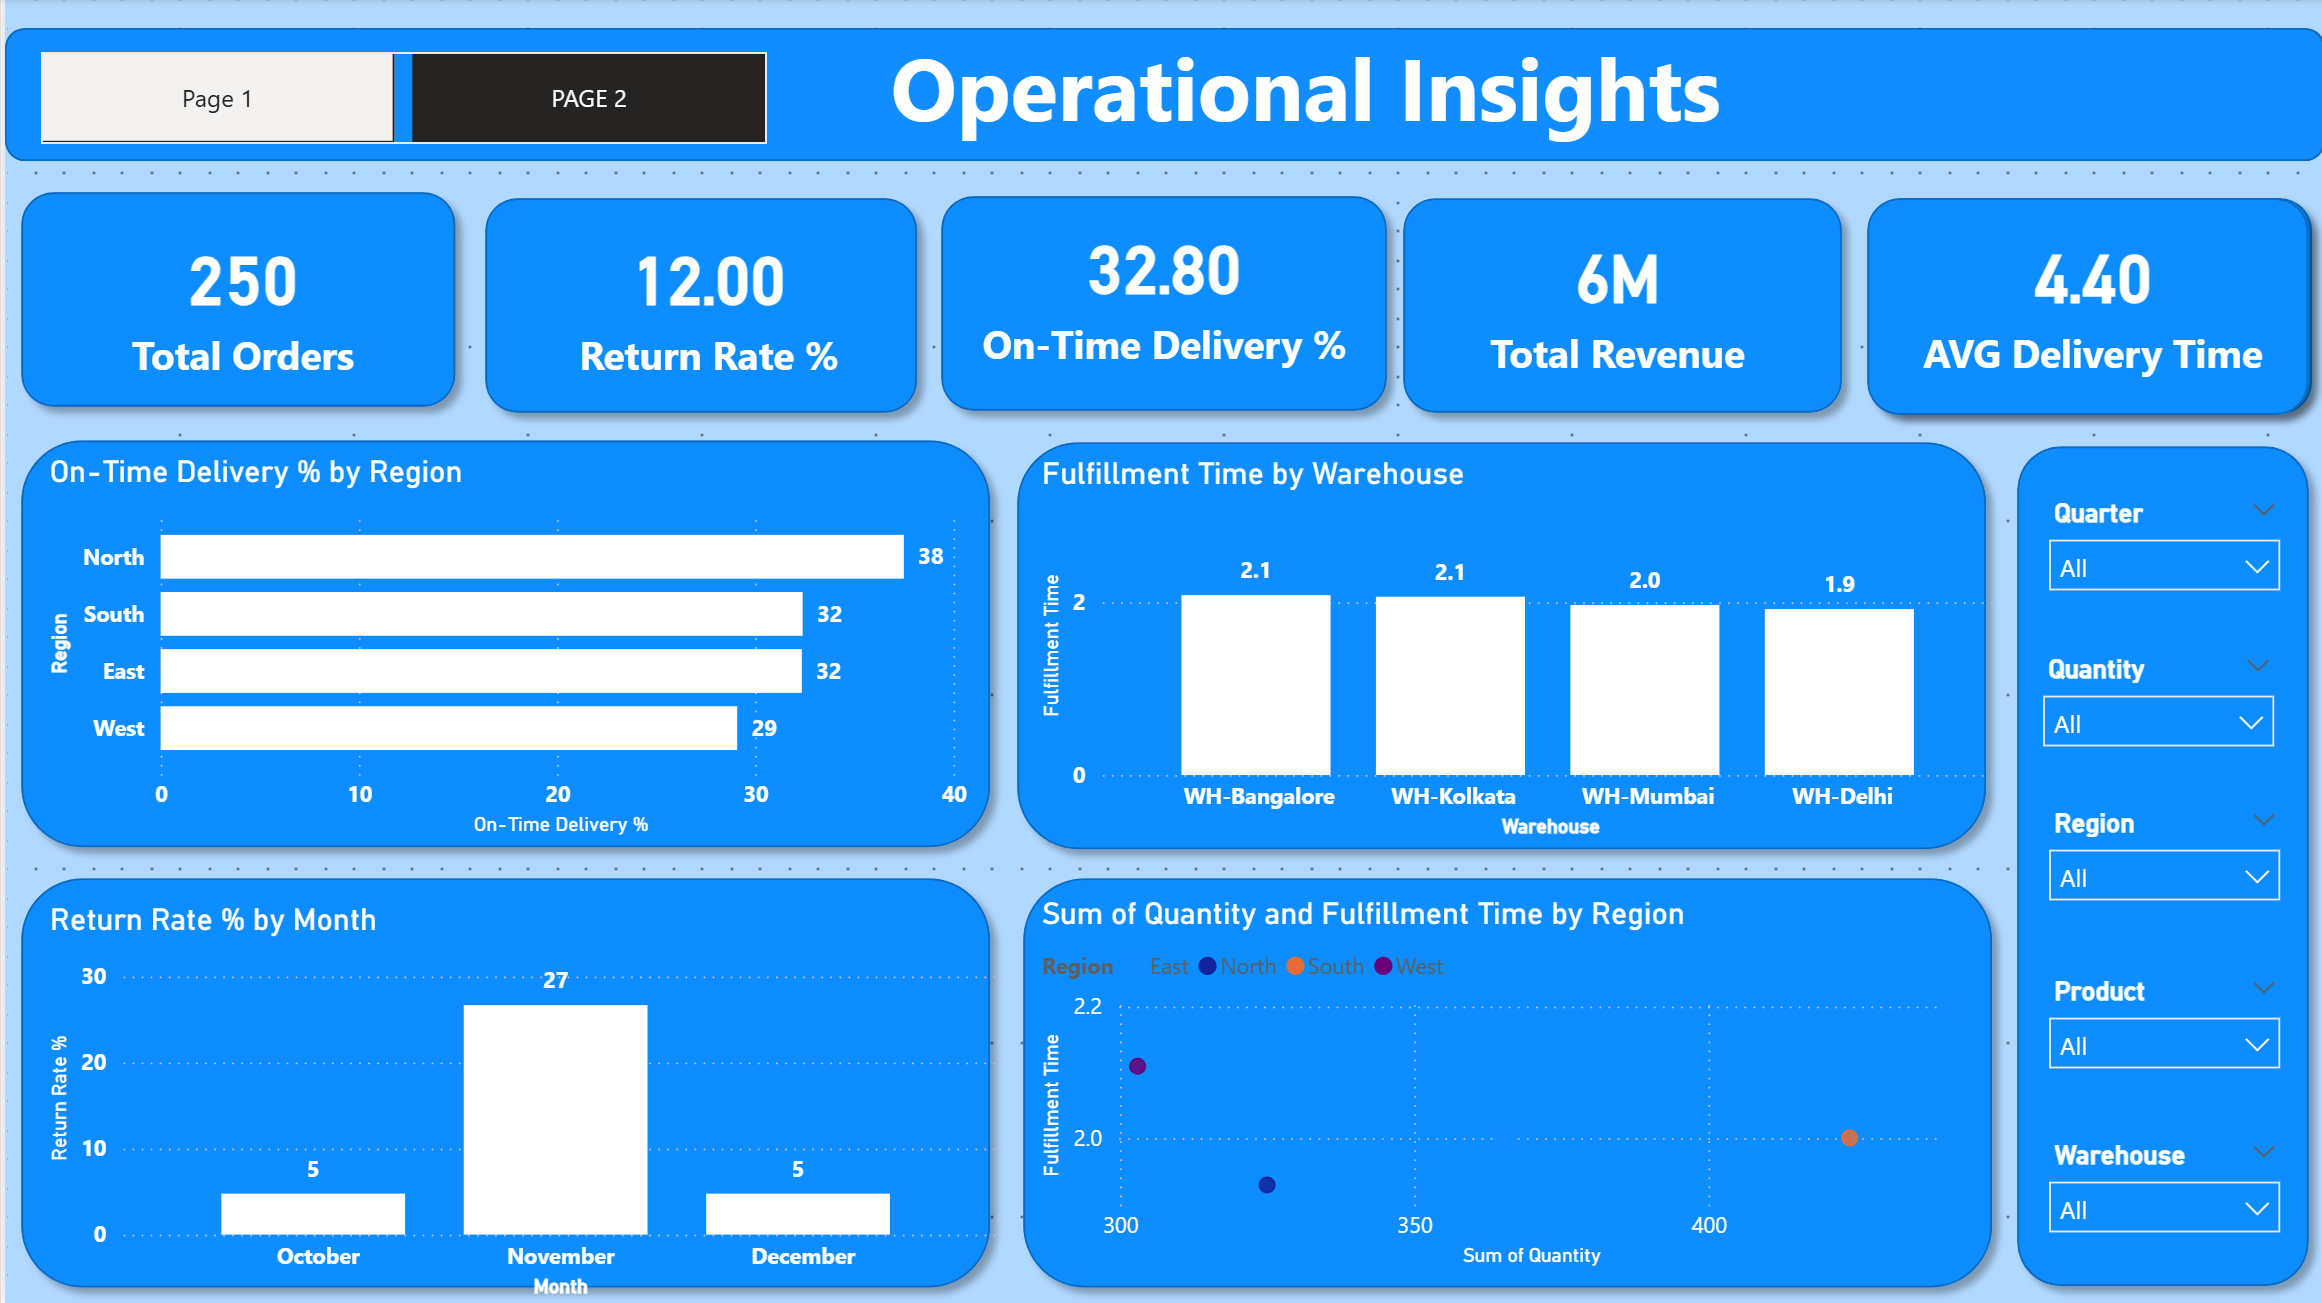

Layout of this report page (visuals, bound fields, positions):
{"tool":"powerbi","page":{"name":"PAGE 2","canvas":[1280,720],"ordinal":1},"visuals":[{"type":"shape","box":[550,236.2,552.5,242.5],"z":0},{"type":"shape","box":[552.5,476.2,552.5,243.8],"z":1000},{"type":"shape","box":[1020.7,101.6,261.2,136.9],"z":2000},{"type":"shape","box":[256.2,101.2,256.2,136.2],"z":3000},{"type":"shape","box":[0,98.8,257.5,136.2],"z":4000},{"type":"shape","box":[0,476.2,552.5,243.8],"z":5000},{"type":"shape","box":[0,235,552.5,242.5],"z":6000},{"type":"shape","box":[0,16.6,1280,73.5],"z":7000},{"type":"card","fields":{"Values":["SupplyChain_Data.Total Orders"]},"box":[20.1,112.6,222.8,109],"z":8000},{"type":"card","fields":{"Values":["SupplyChain_Data.Total Revenue"]},"box":[540.4,115,222.8,109],"z":9000},{"type":"card","fields":{"Values":["SupplyChain_Data.On-Time Delivery %"]},"box":[512,118.5,280.9,97.2],"z":10000},{"type":"card","fields":{"Values":["SupplyChain_Data.Return Rate %"]},"box":[278.5,112.6,220.4,109],"z":11000},{"type":"textbox","box":[385,11.2,665,83.8],"z":12000},{"type":"shape","box":[507.5,100,263.8,136.2],"z":13000},{"type":"card","fields":{"Values":["SupplyChain_Data.On-Time Delivery %"]},"box":[530,106.2,220,110],"z":14000},{"type":"shape","box":[762.5,101.2,260,136.2],"z":15000},{"type":"card","fields":{"Values":["SupplyChain_Data.Total Revenue"]},"box":[778.8,111.2,221.2,108.8],"z":16000},{"type":"barChart","fields":{"Y":["SupplyChain_Data.On-Time Delivery %"],"Category":["SupplyChain_Data.Region"]},"box":[20,251.2,520,215],"z":17000},{"type":"columnChart","fields":{"Category":["SupplyChain_Data.Warehouse"],"Y":["SupplyChain_Data.Fulfillment Time"]},"box":[567.5,252.5,537.5,215],"z":18000},{"type":"card","fields":{"Values":["SupplyChain_Data.AVG Delivery Time"]},"box":[1041.9,114.4,220.2,108.7],"z":19000},{"type":"columnChart","fields":{"Category":["SupplyChain_Data.Order_Date.Variation.Date Hierarchy.Month"],"Y":["SupplyChain_Data.Return Rate %"]},"box":[20,498.8,532.5,222.5],"z":20000},{"type":"scatterChart","fields":{"X":["Sum(SupplyChain_Data.Quantity)"],"Y":["SupplyChain_Data.Fulfillment Time"],"Series":["SupplyChain_Data.Region"]},"box":[567.5,495,517.5,208.8],"z":21000},{"type":"shape","box":[1101.2,238.8,178.8,481.2],"z":22000},{"type":"slicer","fields":{"Values":["SupplyChain_Data.Region"]},"box":[1117.5,441.2,147.5,77.5],"z":23000},{"type":"slicer","fields":{"Values":["SupplyChain_Data.Product_Category"]},"box":[1117.5,533.8,147.5,78.8],"z":24000},{"type":"shape","box":[1018.8,101.2,261.2,137.5],"z":25000},{"type":"slicer","fields":{"Values":["SupplyChain_Data.Warehouse"]},"box":[1117.5,625,147.5,78.8],"z":26000},{"type":"slicer","fields":{"Values":["SupplyChain_Data.Quantity"]},"box":[1115,356.2,147.5,77.5],"z":27000},{"type":"card","fields":{"Values":["SupplyChain_Data.AVG Delivery Time"]},"box":[1041.2,111.2,220.6,109.4],"z":28000},{"type":"pageNavigator","box":[20,30,400,50],"z":29000},{"type":"slicer","fields":{"Values":["SupplyChain_Data.Order_Date.Variation.Date Hierarchy.Quarter"]},"box":[1117.5,270,147.5,77.5],"z":30000}]}

Visuals, with their boxes in screenshot pixels (x1, y1, x2, y2), scaled from the page's 1280x720 canvas onto the 2322x1303 screenshot:
shape: l=998, t=427, r=2000, b=866
shape: l=1002, t=862, r=2005, b=1302
shape: l=1852, t=184, r=2321, b=432
shape: l=465, t=183, r=930, b=430
shape: l=0, t=179, r=467, b=425
shape: l=0, t=862, r=1002, b=1302
shape: l=0, t=425, r=1002, b=864
shape: l=0, t=30, r=2321, b=163
card - SupplyChain_Data.Total Orders: l=36, t=204, r=441, b=401
card - SupplyChain_Data.Total Revenue: l=980, t=208, r=1384, b=405
card - SupplyChain_Data.On-Time Delivery %: l=929, t=214, r=1438, b=390
card - SupplyChain_Data.Return Rate %: l=505, t=204, r=905, b=401
textbox: l=698, t=20, r=1905, b=172
shape: l=921, t=181, r=1399, b=427
card - SupplyChain_Data.On-Time Delivery %: l=961, t=192, r=1361, b=391
shape: l=1383, t=183, r=1855, b=430
card - SupplyChain_Data.Total Revenue: l=1413, t=201, r=1814, b=398
barChart - SupplyChain_Data.On-Time Delivery % x SupplyChain_Data.Region: l=36, t=455, r=980, b=844
columnChart - SupplyChain_Data.Warehouse x SupplyChain_Data.Fulfillment Time: l=1029, t=457, r=2005, b=846
card - SupplyChain_Data.AVG Delivery Time: l=1890, t=207, r=2290, b=404
columnChart - SupplyChain_Data.Order_Date.Variation.Date Hierarchy.Month x SupplyChain_Data.Return Rate %: l=36, t=903, r=1002, b=1302
scatterChart - Sum(SupplyChain_Data.Quantity) x SupplyChain_Data.Fulfillment Time: l=1029, t=896, r=1968, b=1274
shape: l=1998, t=432, r=2321, b=1302
slicer - SupplyChain_Data.Region: l=2027, t=798, r=2295, b=939
slicer - SupplyChain_Data.Product_Category: l=2027, t=966, r=2295, b=1109
shape: l=1848, t=183, r=2321, b=432
slicer - SupplyChain_Data.Warehouse: l=2027, t=1131, r=2295, b=1274
slicer - SupplyChain_Data.Quantity: l=2023, t=645, r=2290, b=785
card - SupplyChain_Data.AVG Delivery Time: l=1889, t=201, r=2289, b=399
pageNavigator: l=36, t=54, r=762, b=145
slicer - SupplyChain_Data.Order_Date.Variation.Date Hierarchy.Quarter: l=2027, t=489, r=2295, b=629
